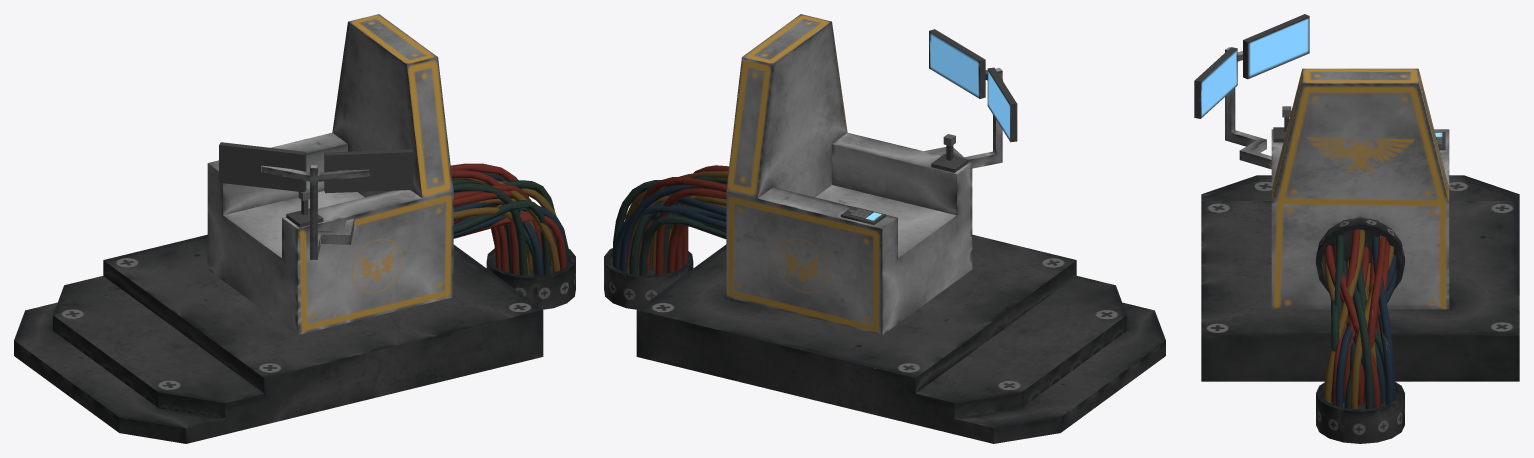
File: Throne.fbx
3 views of the same model, side by side, from view 1: azimuth 30°, elevation 25°; view 2: azimuth 150°, elevation 25°; view 3: azimuth 270°, elevation 25° (orthographic).
Parts seen in each view (by area): view 1: throne; view 2: throne; view 3: throne.
Part boxes in pixels (bbox=[...]): throne: bbox=[14, 14, 575, 443]; throne: bbox=[604, 14, 1165, 443]; throne: bbox=[1194, 14, 1519, 443].
Size of the model in its own units: 387 by 210 by 219.
